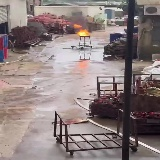fire: (72, 24, 90, 36)
